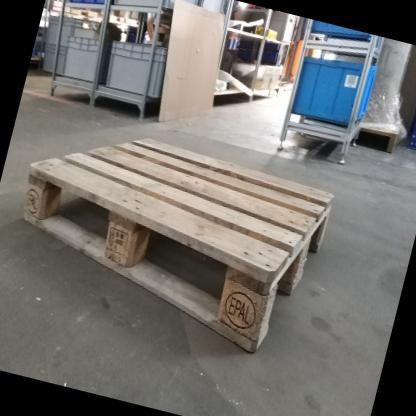BoxFace: (13, 132, 339, 364)
